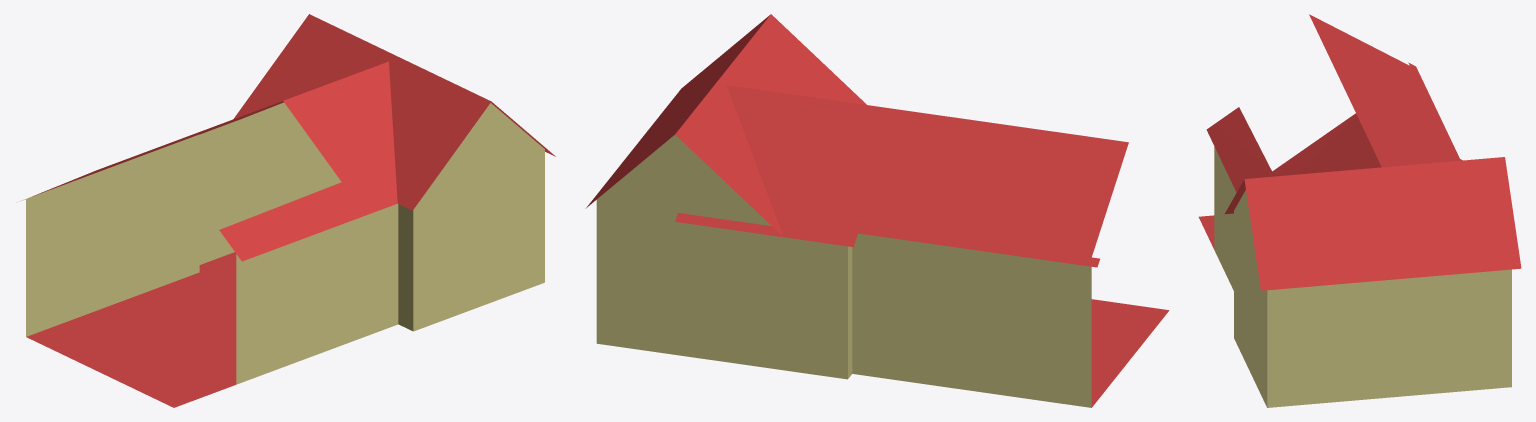
3 renders of one model, left to right at view 1: azimuth 30°, elevation 25°; view 2: azimuth 150°, elevation 25°; view 3: azimuth 270°, elevation 25°, orthographic. The views are drawn at different scales.
Bounding box in the file's own units: 32.07 × 20.16 × 13.65.
